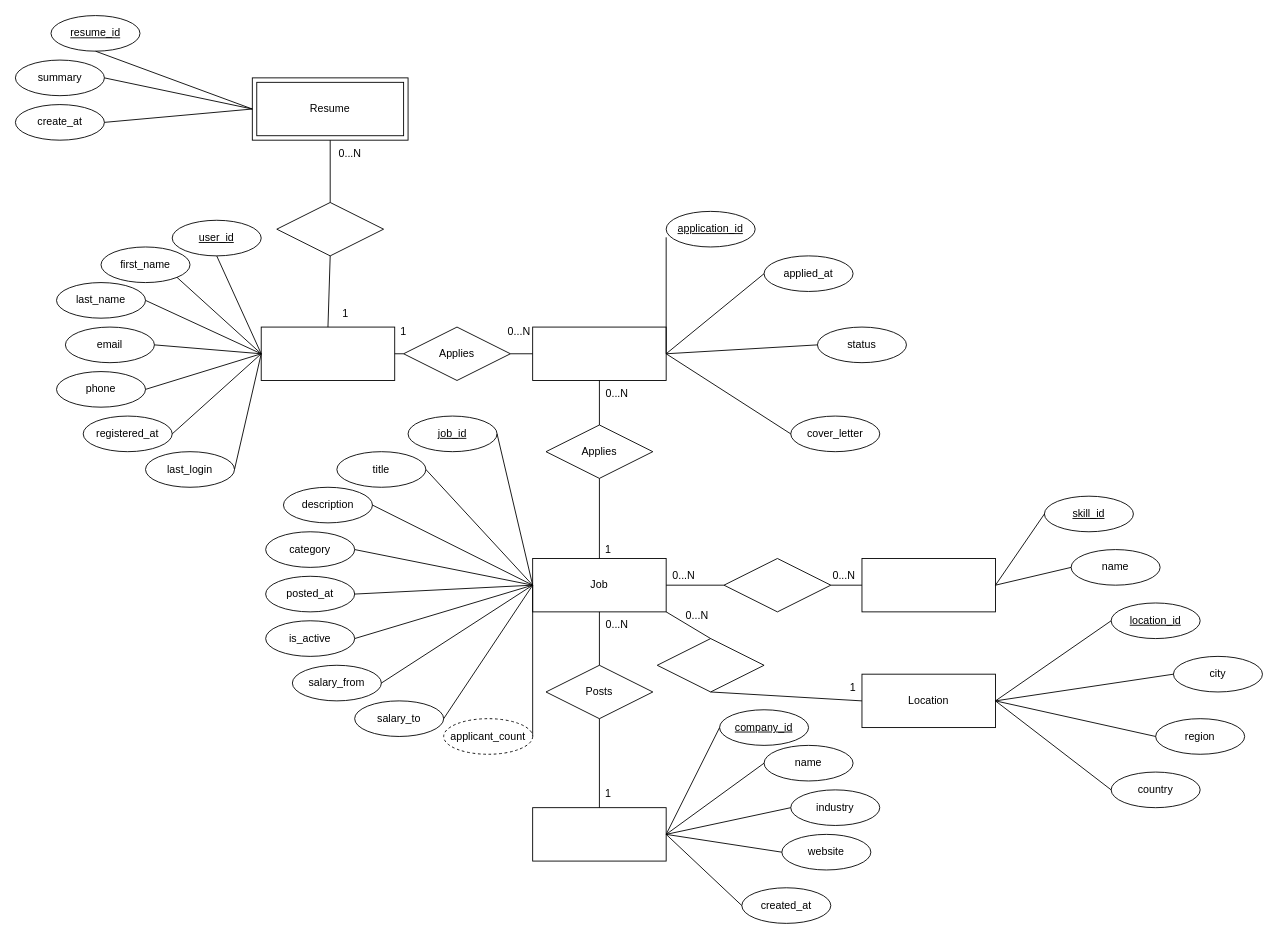
The diagram is 1279 pixels wide and 939 high, and some of its shapes have lost their labels. The box of each missing label's shape, as (x1, y1, x2, y2) in pixels:
Aplication: (532, 326, 666, 380)
Company: (532, 807, 666, 861)
LocatedAt: (656, 638, 764, 692)
Owns: (276, 202, 384, 256)
Requires: (723, 558, 831, 612)
Skill: (861, 558, 995, 612)
User: (260, 326, 395, 380)
